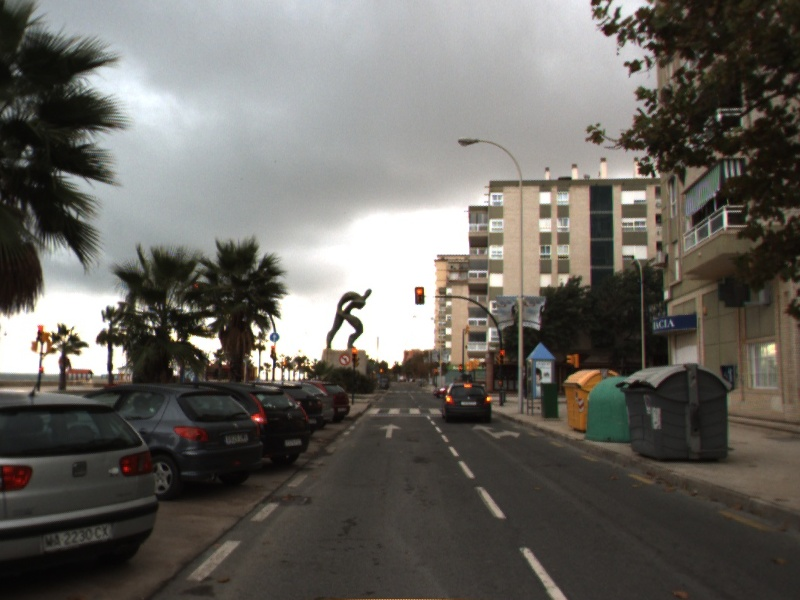STRAIGHT: (378, 422, 404, 439)
STRAIGHT_RIGHT: (470, 422, 522, 441)
